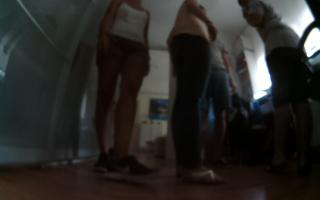person: (157, 1, 244, 190), (84, 1, 164, 188), (236, 1, 320, 175), (199, 22, 243, 170)
